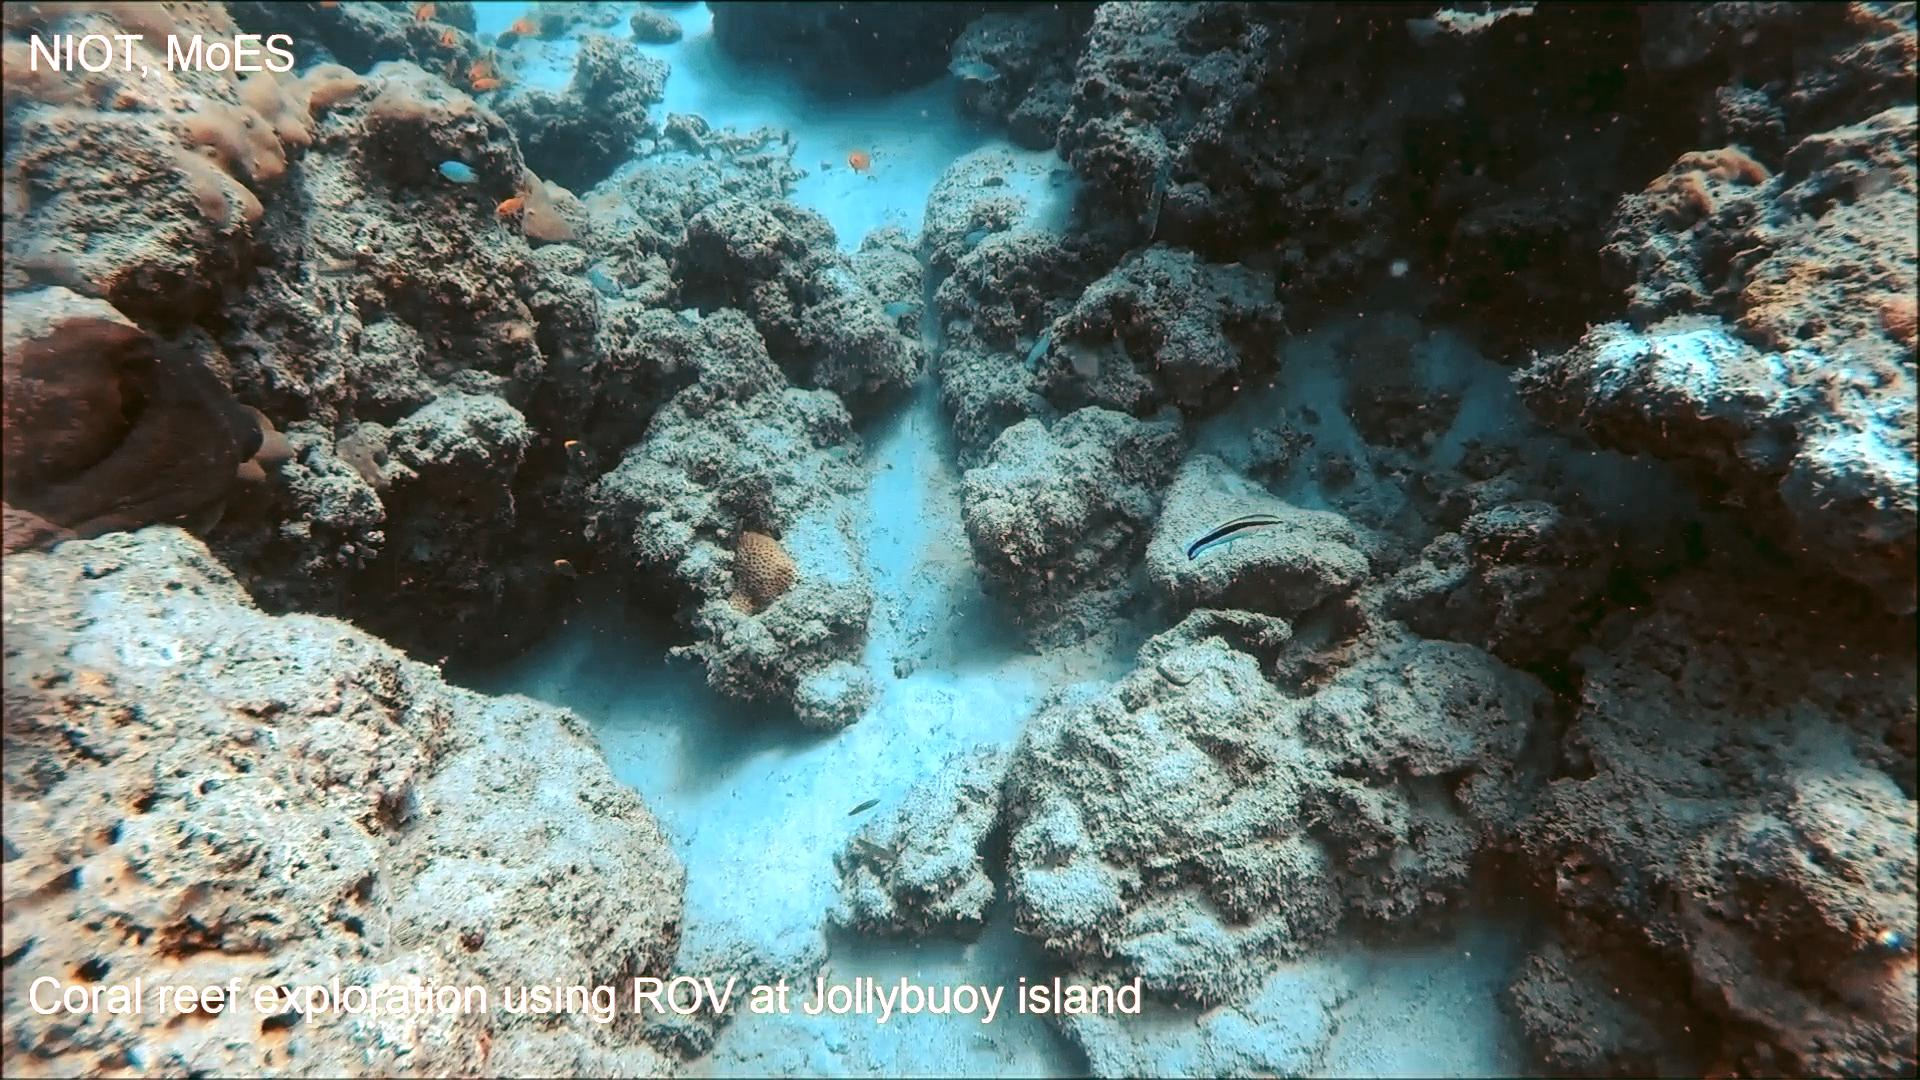Porites-Porites pukoensis: (4, 0, 373, 253)
